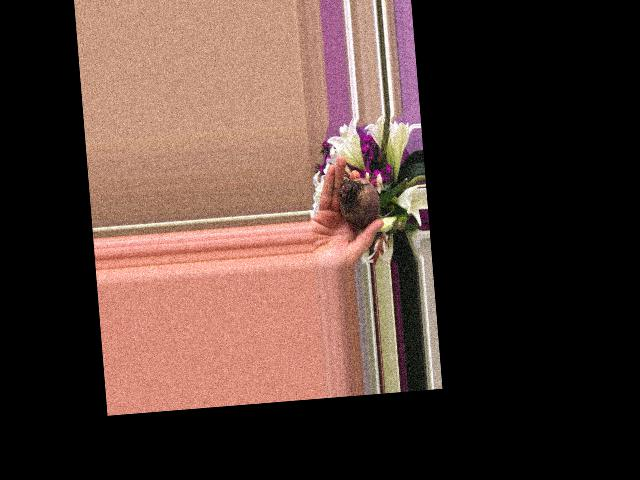beet: (337, 175, 394, 231)
